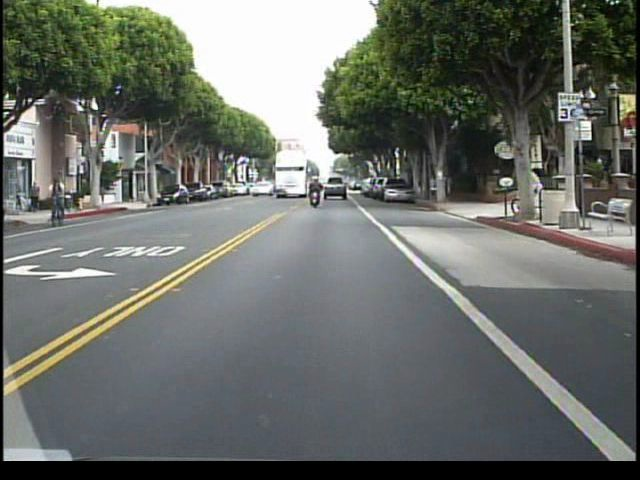person: (51, 175, 74, 222), (307, 172, 325, 213), (425, 171, 437, 202), (447, 171, 456, 199), (440, 171, 448, 197)
